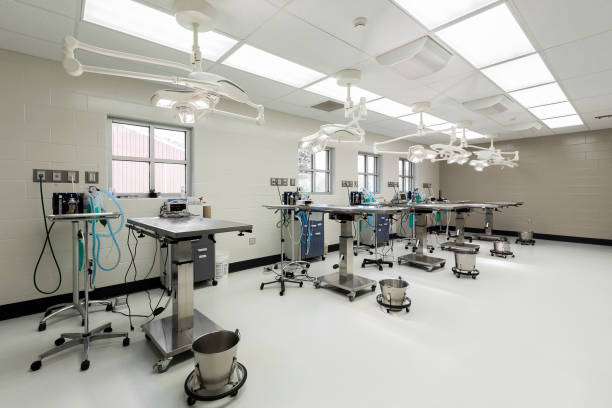breathing_tube: (86, 188, 124, 286), (298, 210, 312, 253), (367, 192, 378, 227), (409, 211, 413, 227), (435, 212, 441, 222)
handle: (313, 222, 324, 237), (198, 246, 208, 262)
operating_bed: (125, 218, 255, 372), (300, 205, 377, 302), (378, 203, 448, 273), (440, 203, 480, 255), (477, 201, 525, 241)
surgical_light: (150, 88, 221, 125), (297, 132, 330, 156), (408, 144, 437, 164), (445, 148, 472, 166), (469, 159, 490, 172)
utility_cart: (47, 213, 121, 339), (261, 204, 302, 285), (359, 213, 386, 263), (400, 213, 420, 251), (446, 209, 455, 244)
waste_bin: (183, 329, 248, 408), (375, 277, 412, 315), (450, 248, 481, 279), (489, 241, 515, 260), (516, 229, 537, 247)
